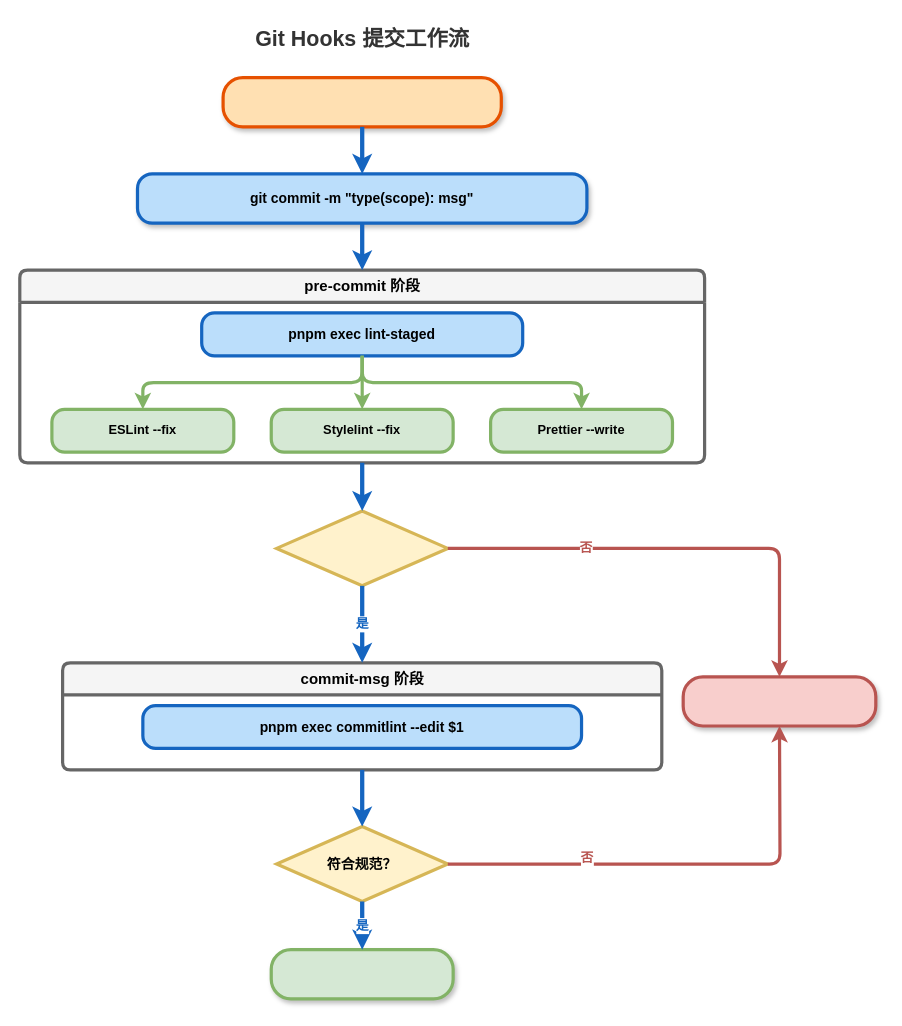
Image size: 902x1026. Some labels were removed from this diagram. Here are the shapes that lost their labels. From the top down, the centre of each, then its label:
point 363,103: git add <files>
point 361,548: 全部通过？
point 780,702: 阻止提交
point 363,975: 提交成功
